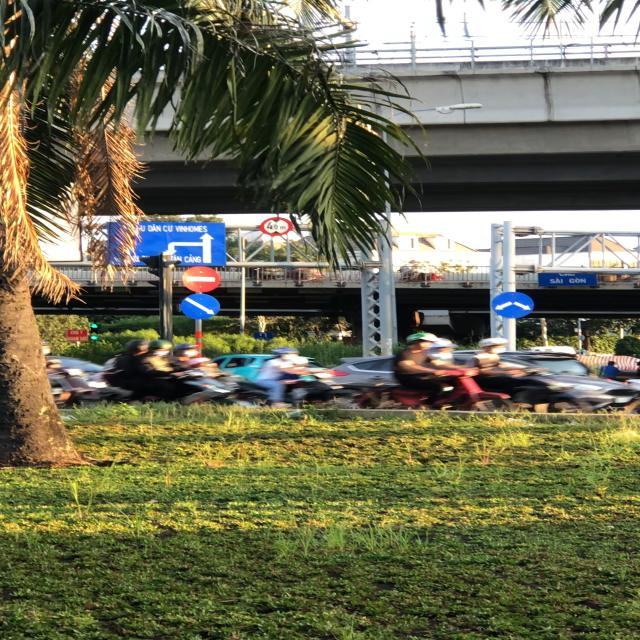Bien bao cam di nguoc chieu: (177, 265, 221, 293)
